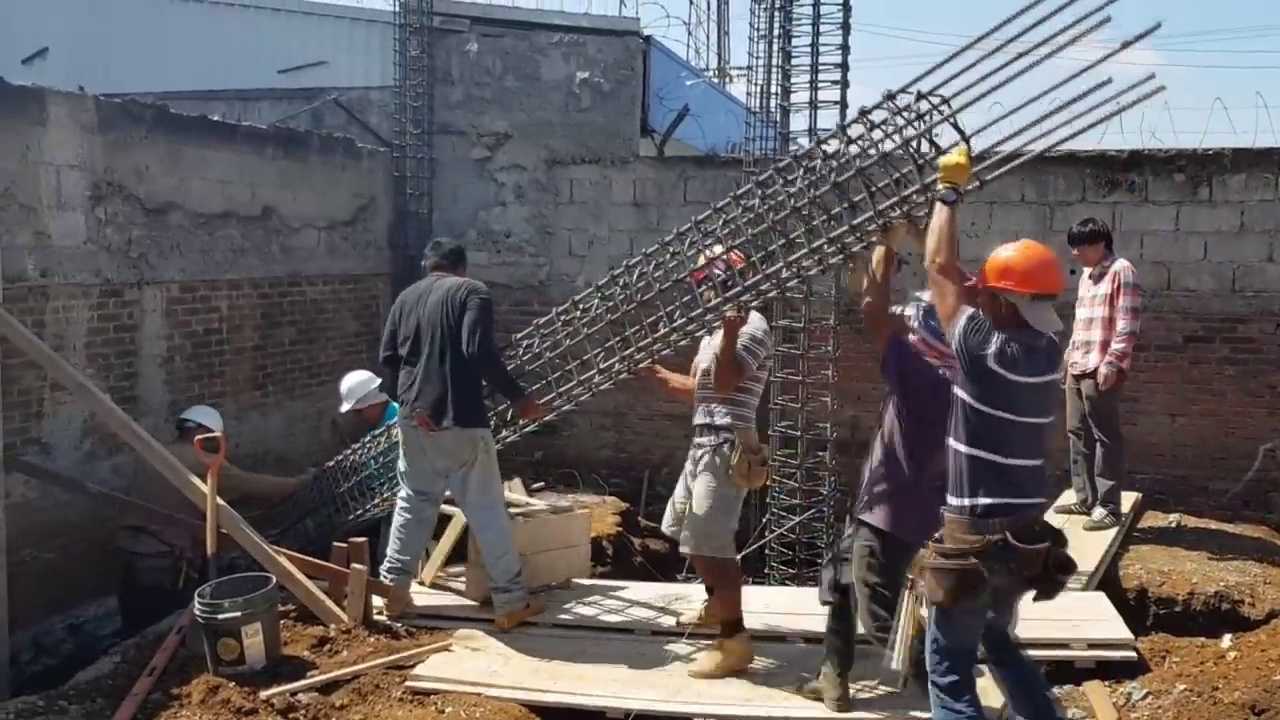helmet: (977, 238, 1074, 301), (337, 372, 385, 414), (696, 245, 745, 281), (179, 407, 226, 436)
helmet-off: (1072, 216, 1120, 267), (416, 240, 466, 287)
helmet-on: (975, 238, 1073, 341), (690, 244, 755, 321), (338, 370, 390, 429), (170, 407, 227, 455)
person: (923, 144, 1088, 714), (805, 218, 945, 711), (374, 241, 536, 628), (659, 245, 771, 689), (112, 399, 318, 630), (1063, 210, 1143, 560), (337, 369, 402, 562)
